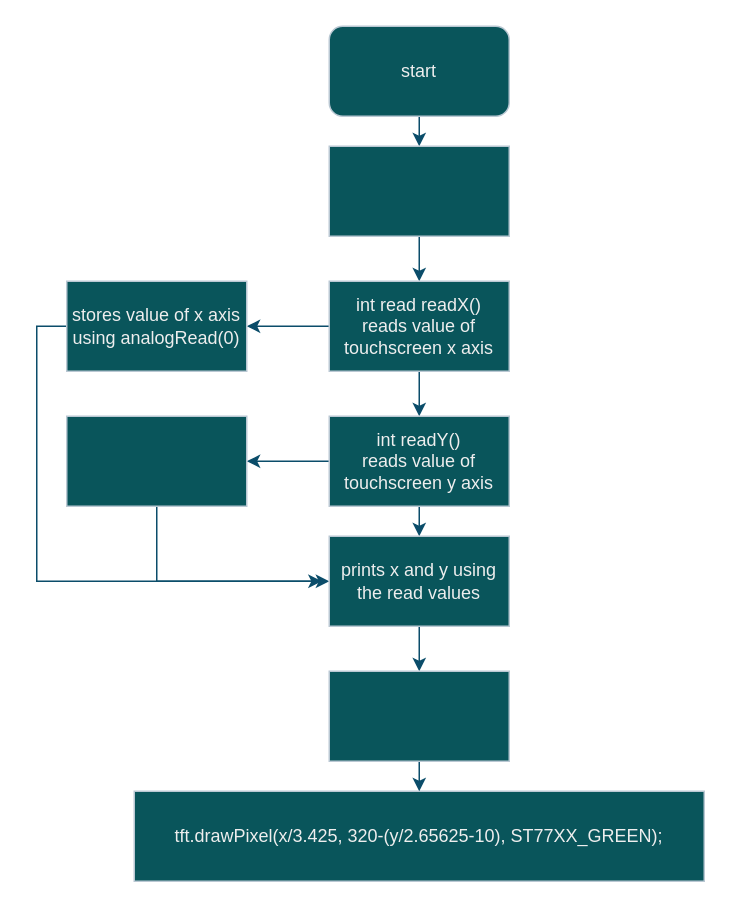
This 731x908 diagram has some shape labels left out. The shapes that lost their labels are listed below. From the top down, each one's box as (x1, y1, x2, y2) in pixels, then its label:
(328, 145, 509, 236): serial begin(9600) tft.init(240, 320) this initializes the tft screen
(65, 415, 247, 506): stores value of y axis using analogRead(1)
(328, 670, 509, 761): draws the read values as a pixel on the OLED
